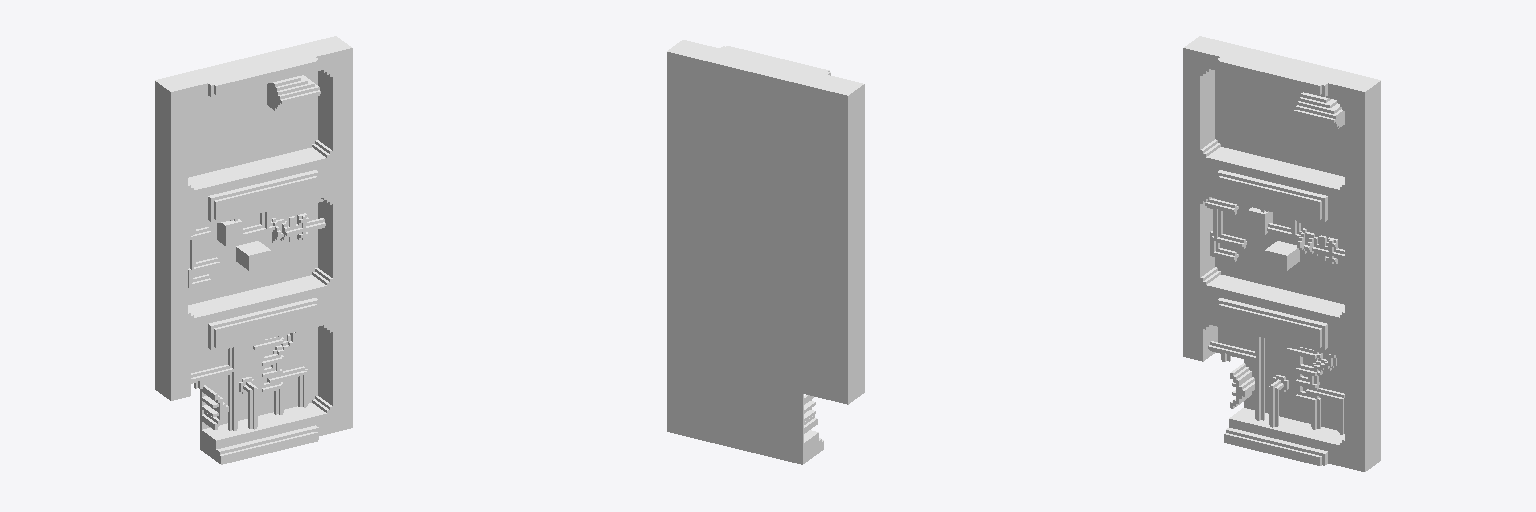
The model's file is tekwal04_cutout-0-WALTEK04.obj.
3 views of the same model, side by side, from view 1: azimuth 30°, elevation 25°; view 2: azimuth 150°, elevation 25°; view 3: azimuth 330°, elevation 25° (orthographic).
Visible parts, largest first — view 1: WALTEK04; view 2: WALTEK04; view 3: WALTEK04.
Part boxes in pixels (x1,y1,x2,y2): WALTEK04: (155, 36, 352, 464); WALTEK04: (667, 40, 864, 464); WALTEK04: (1183, 36, 1380, 471).
Size of the model in its own units: 6.4 by 12.8 by 1.3.